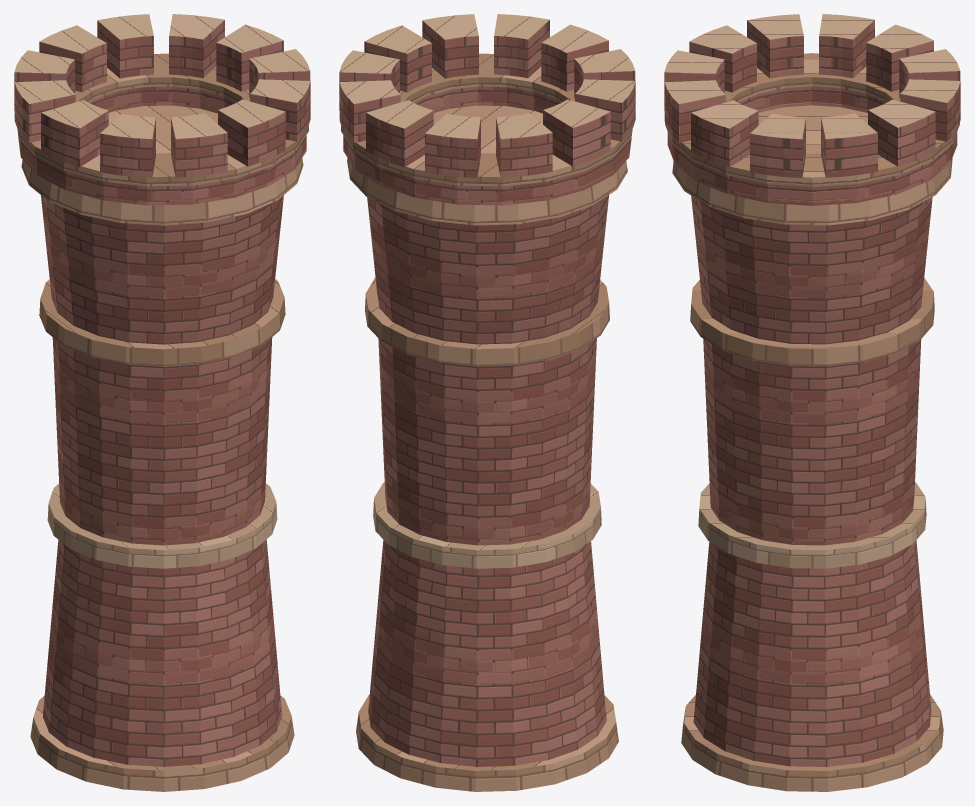
File: Tower_Round_Tall.obj
The picture shows the model from 3 angles, left to right: view 1: azimuth 30°, elevation 25°; view 2: azimuth 150°, elevation 25°; view 3: azimuth 270°, elevation 25°; orthographic projection.
Visible parts, largest first — view 1: Brick_Rose, Stone_Sand, Stone_Light; view 2: Brick_Rose, Stone_Sand, Stone_Light; view 3: Brick_Rose, Stone_Sand, Stone_Light.
Part boxes in pixels (left/top/right/bottom): Brick_Rose: left=14, top=20, right=310, bottom=766; Stone_Sand: left=17, top=53, right=308, bottom=791; Stone_Light: left=14, top=14, right=310, bottom=568; Brick_Rose: left=339, top=20, right=635, bottom=766; Stone_Sand: left=341, top=53, right=632, bottom=791; Stone_Light: left=339, top=14, right=635, bottom=568; Brick_Rose: left=664, top=20, right=960, bottom=766; Stone_Sand: left=665, top=53, right=959, bottom=791; Stone_Light: left=664, top=14, right=960, bottom=568.
Size of the model in its own units: 3.12 by 7.66 by 3.12.
3 materials, 3 textured.
